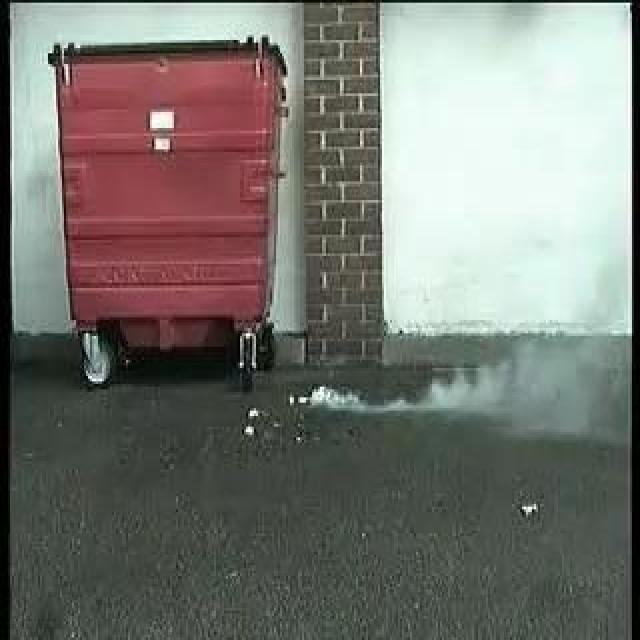Smoke: (308, 352, 548, 424)
